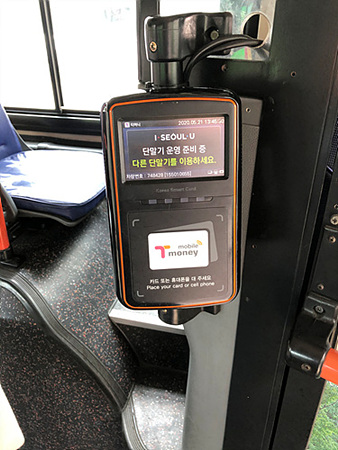terminal: (107, 92, 244, 309)
